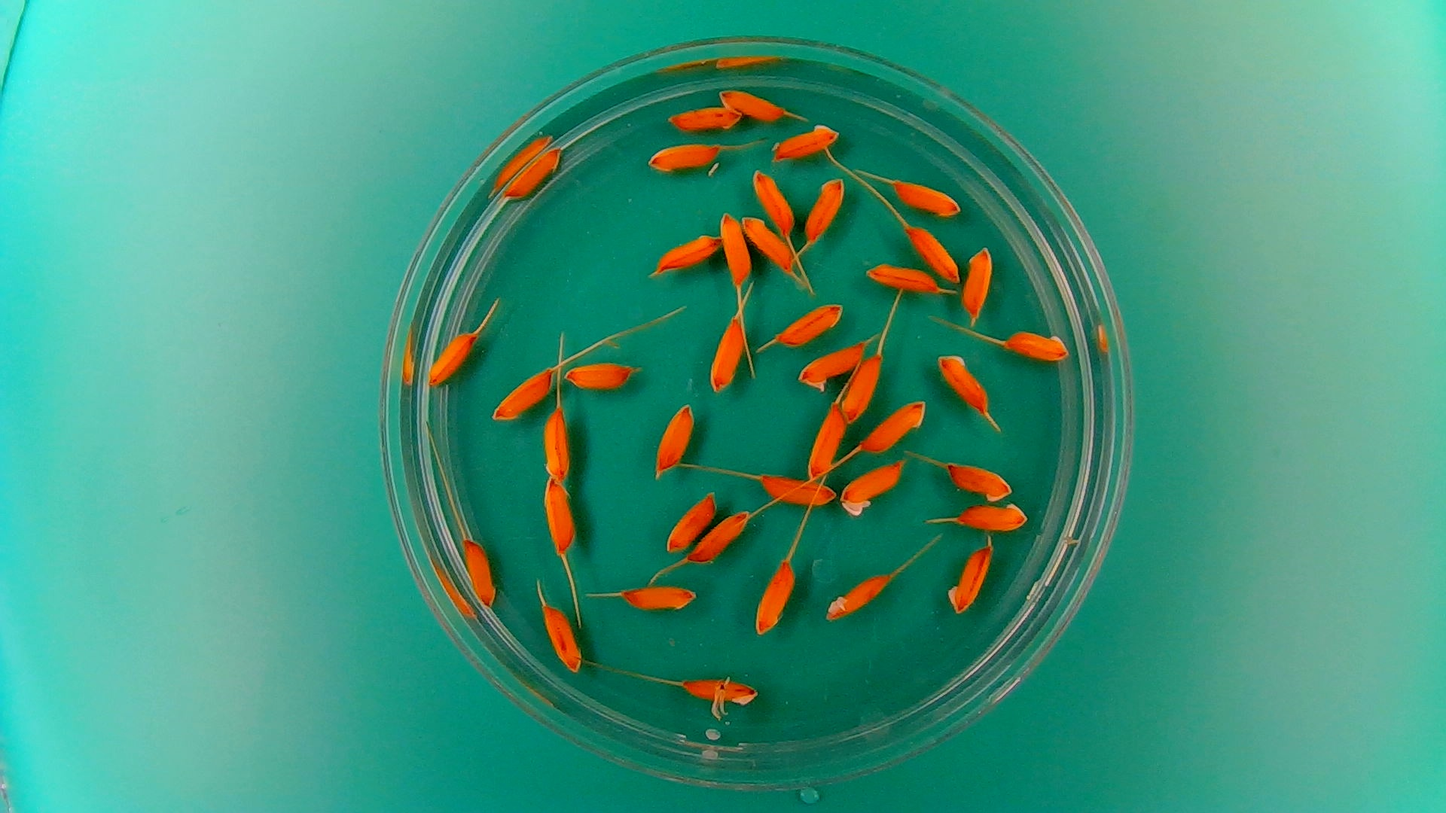no: (837, 456, 907, 517), (858, 396, 927, 454), (489, 363, 555, 422), (795, 340, 868, 393), (944, 540, 994, 615), (935, 348, 991, 414), (804, 402, 850, 482), (501, 142, 565, 199), (773, 298, 847, 347), (824, 569, 891, 623), (904, 221, 961, 284), (688, 507, 752, 563), (651, 400, 696, 479), (752, 556, 796, 636), (663, 488, 717, 553), (538, 599, 584, 675), (648, 229, 721, 276), (740, 212, 796, 273), (425, 327, 479, 388), (707, 314, 748, 394), (749, 166, 795, 236), (839, 352, 883, 425), (802, 174, 847, 245), (767, 120, 840, 163), (678, 674, 758, 713), (891, 176, 963, 219), (645, 138, 723, 177), (541, 476, 578, 557), (459, 534, 498, 610), (756, 471, 837, 507), (717, 209, 753, 288), (863, 260, 940, 296), (618, 580, 698, 614), (959, 244, 994, 321), (716, 86, 787, 123), (946, 465, 1015, 503), (539, 403, 572, 482), (1003, 326, 1071, 363), (563, 358, 639, 391), (955, 499, 1030, 531), (665, 102, 740, 132)
